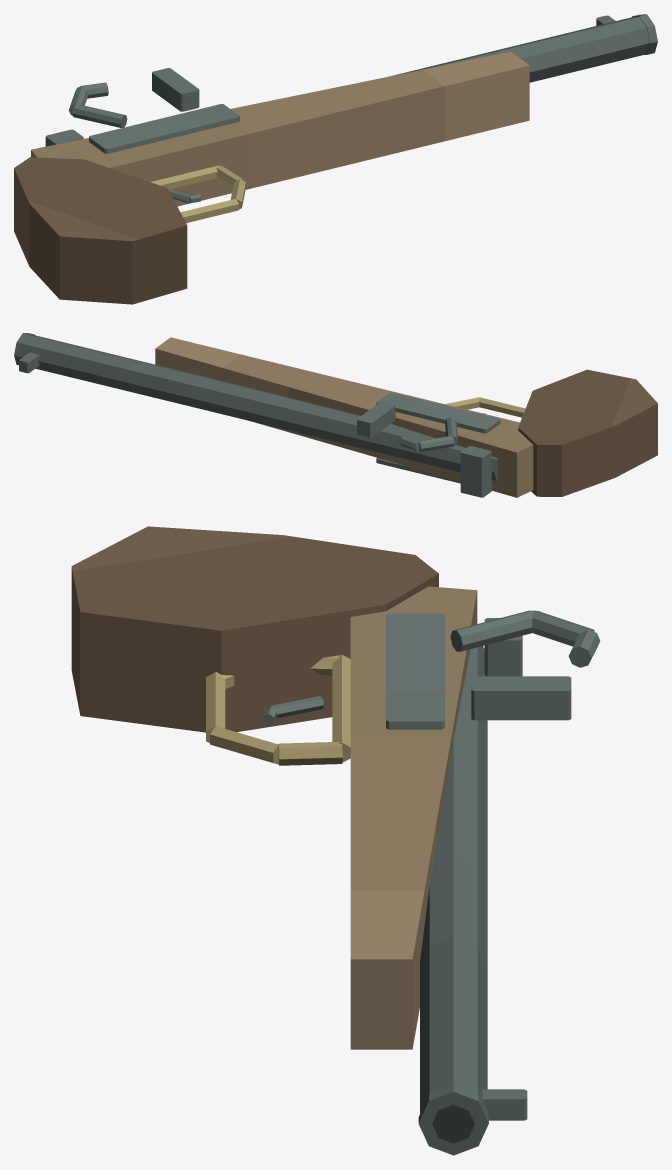
File: weapon-duelling.glb
3 views of the same model, one above another, from view 1: azimuth 30°, elevation 25°; view 2: azimuth 150°, elevation 25°; view 3: azimuth 270°, elevation 25° (orthographic). The views are drawn at different scales.
Visible parts, largest first — view 1: weapon-duelling/long-slender-wood-stock, weapon-duelling/sculpted-curved-wood-butt, weapon-duelling/long-early-barrel, weapon-duelling/lock-plate-left, weapon-duelling/lock-upright, weapon-duelling/external-flint-cock-1, weapon-duelling/hollow-brass-guard-1, weapon-duelling/hollow-brass-guard-4; view 2: weapon-duelling/long-early-barrel, weapon-duelling/sculpted-curved-wood-butt, weapon-duelling/long-slender-wood-stock, weapon-duelling/lock-plate-left, weapon-duelling/rear-sight, weapon-duelling/lock-upright, weapon-duelling/hollow-brass-guard-4, weapon-duelling/external-flint-cock-2, weapon-duelling/lock-plate-right, weapon-duelling/front-sight, weapon-duelling/hollow-brass-guard-3, weapon-duelling/external-flint-cock-1; view 3: weapon-duelling/sculpted-curved-wood-butt, weapon-duelling/long-slender-wood-stock, weapon-duelling/long-early-barrel, weapon-duelling/lock-plate-left, weapon-duelling/lock-upright, weapon-duelling/long-early-barrel-end-rim, weapon-duelling/external-flint-cock-1, weapon-duelling/hollow-brass-guard-1, weapon-duelling/hollow-brass-guard-2, weapon-duelling/rear-sight, weapon-duelling/hollow-brass-guard-3, weapon-duelling/front-sight (+3 smaller).
Boxes of the visible parts, x1,y1,x2,y2 form: weapon-duelling/long-slender-wood-stock: [31, 51, 529, 206]; weapon-duelling/sculpted-curved-wood-butt: [14, 157, 187, 304]; weapon-duelling/long-early-barrel: [392, 17, 649, 82]; weapon-duelling/lock-plate-left: [89, 104, 239, 153]; weapon-duelling/lock-upright: [152, 68, 199, 111]; weapon-duelling/external-flint-cock-1: [72, 104, 127, 127]; weapon-duelling/hollow-brass-guard-1: [150, 165, 218, 189]; weapon-duelling/hollow-brass-guard-4: [180, 199, 238, 222]; weapon-duelling/long-early-barrel: [20, 335, 497, 481]; weapon-duelling/sculpted-curved-wood-butt: [518, 369, 657, 496]; weapon-duelling/long-slender-wood-stock: [155, 337, 533, 497]; weapon-duelling/lock-plate-left: [376, 392, 500, 433]; weapon-duelling/rear-sight: [460, 446, 491, 497]; weapon-duelling/lock-upright: [357, 401, 395, 437]; weapon-duelling/hollow-brass-guard-4: [479, 397, 525, 417]; weapon-duelling/external-flint-cock-2: [419, 436, 454, 451]; weapon-duelling/lock-plate-right: [376, 457, 460, 483]; weapon-duelling/front-sight: [19, 352, 39, 373]; weapon-duelling/hollow-brass-guard-3: [445, 397, 479, 409]; weapon-duelling/external-flint-cock-1: [445, 417, 457, 445]; weapon-duelling/sculpted-curved-wood-butt: [71, 526, 438, 732]; weapon-duelling/long-slender-wood-stock: [350, 586, 477, 1049]; weapon-duelling/long-early-barrel: [420, 646, 487, 1114]; weapon-duelling/lock-plate-left: [386, 613, 444, 729]; weapon-duelling/lock-upright: [471, 676, 571, 720]; weapon-duelling/long-early-barrel-end-rim: [418, 1085, 488, 1155]; weapon-duelling/external-flint-cock-1: [450, 610, 532, 651]; weapon-duelling/hollow-brass-guard-1: [332, 654, 350, 762]; weapon-duelling/hollow-brass-guard-2: [278, 742, 342, 765]; weapon-duelling/rear-sight: [484, 618, 522, 676]; weapon-duelling/hollow-brass-guard-3: [210, 726, 279, 764]; weapon-duelling/front-sight: [482, 1089, 527, 1120].
Size of the model in its own units: 0.4395 by 0.052 by 0.1799.
5 materials, 5 textured.
